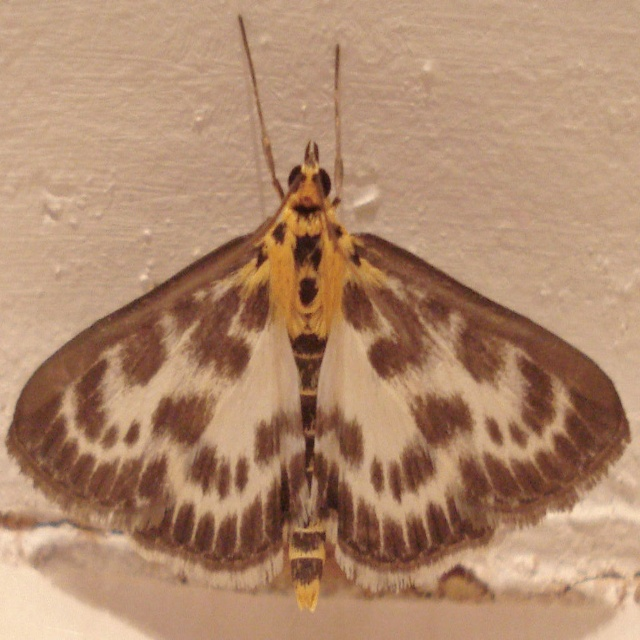Butterfly: (3, 17, 624, 615)
